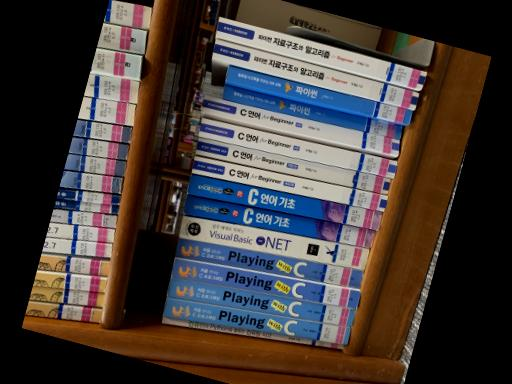book-spine: (216, 15, 427, 90), (212, 38, 419, 109), (200, 94, 400, 154), (199, 117, 397, 176), (196, 136, 390, 194), (191, 154, 388, 211), (225, 64, 412, 124), (187, 173, 382, 229), (183, 194, 375, 248), (179, 215, 370, 269), (175, 236, 363, 288), (222, 84, 403, 138), (171, 257, 360, 308), (167, 277, 355, 326), (163, 296, 351, 344), (162, 316, 343, 349)
